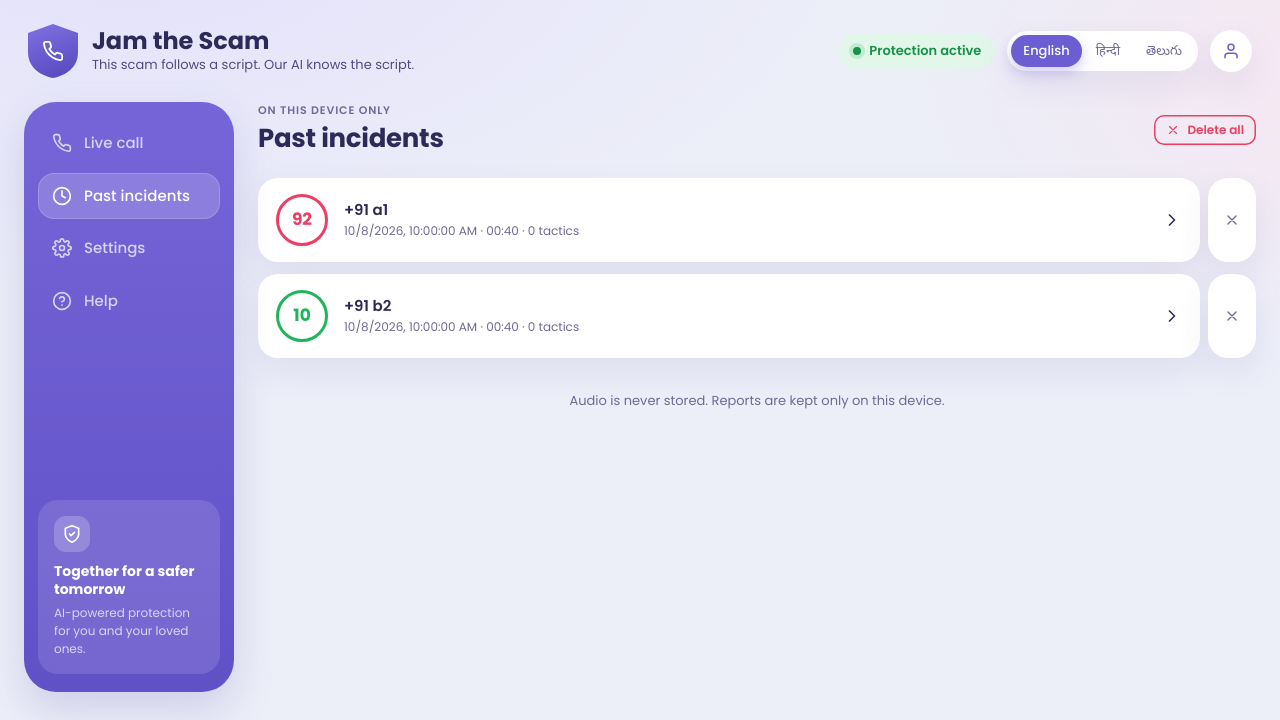
Scenario: App › deletes one incident, then all of them after confirming
Expected: the number of list items is 2, [258, 178, 1256, 262]; [258, 274, 1256, 358]
Click the 1st button named "Delete:" at (1232, 220), box [1208, 178, 1256, 262]
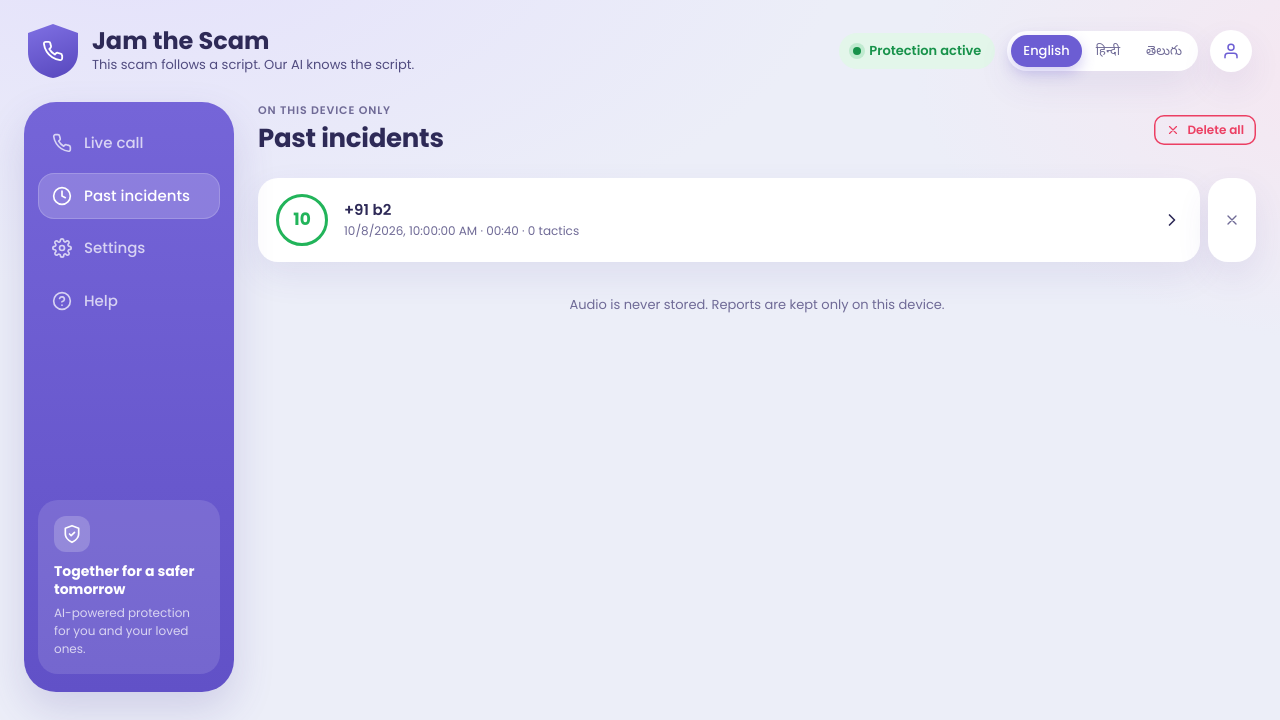
Expected: the button "+91 a1" is gone
Click the button "Delete all" at (1205, 130), box [1154, 115, 1256, 145]
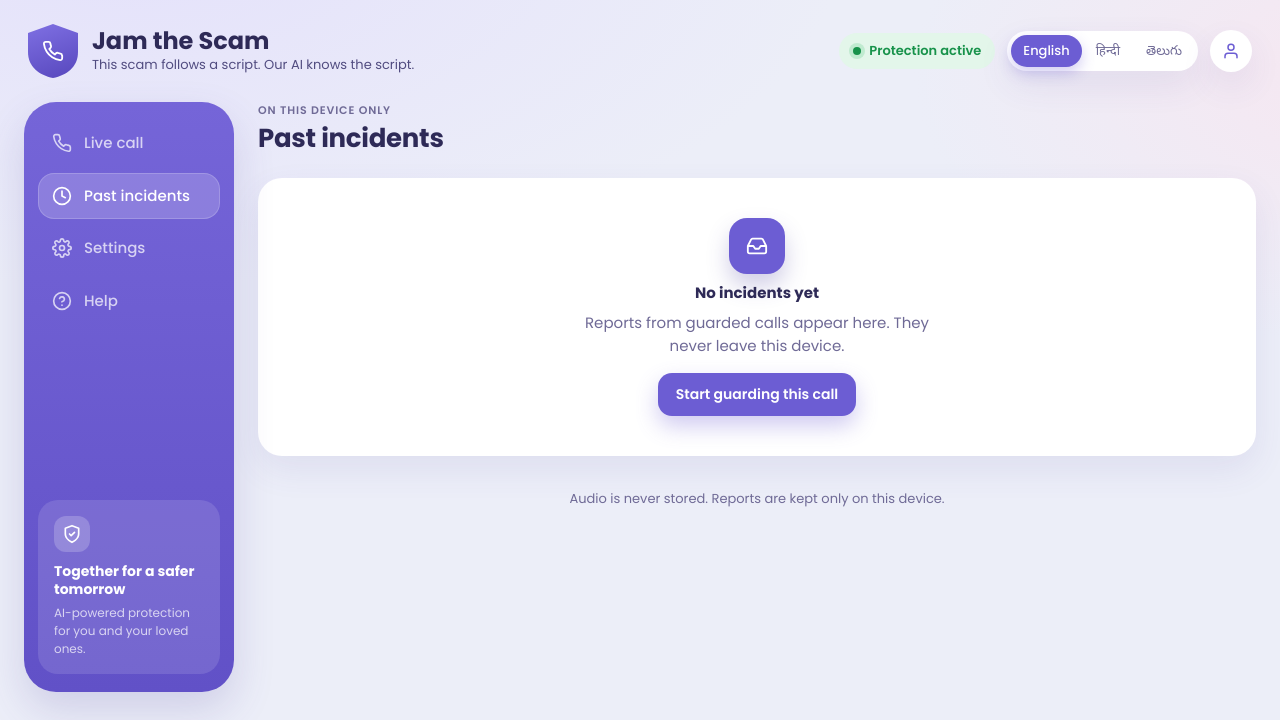
Expected: the text "No incidents yet" is shown, [695, 282, 819, 304]
